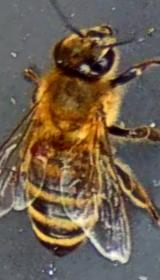varroa_mite: (23, 131, 56, 163)
